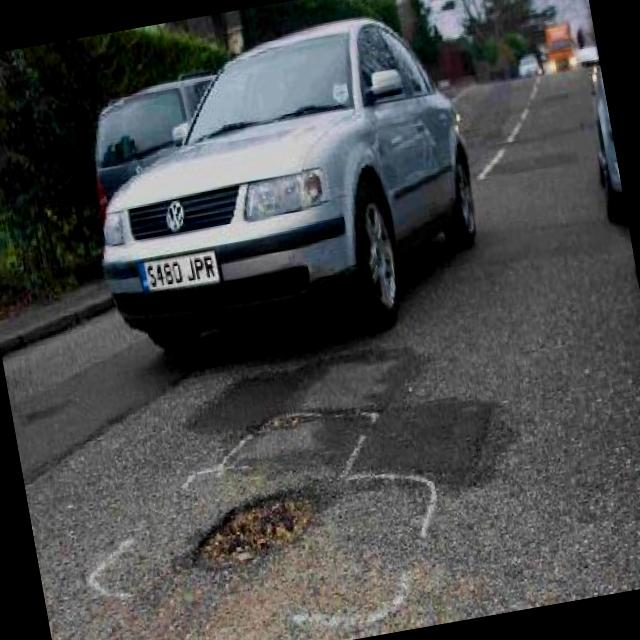Lubang: (192, 488, 319, 567), (256, 413, 321, 432)
